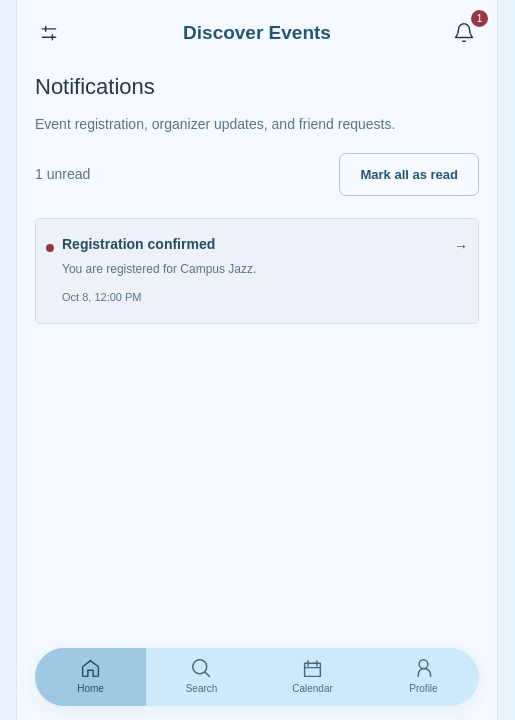
Scenario: shows unread notifications and refreshes after marking all as read
This screenshot has width=515, height=720.
Expected: the text "Registration confirmed" is shown, x1=62 y1=236 x2=215 y2=252
Expected: the text "1 unread" is shown, x1=35 y1=165 x2=90 y2=184
Click the button "Mark all as read" at (409, 175), box x1=339 y1=153 x2=479 y2=196
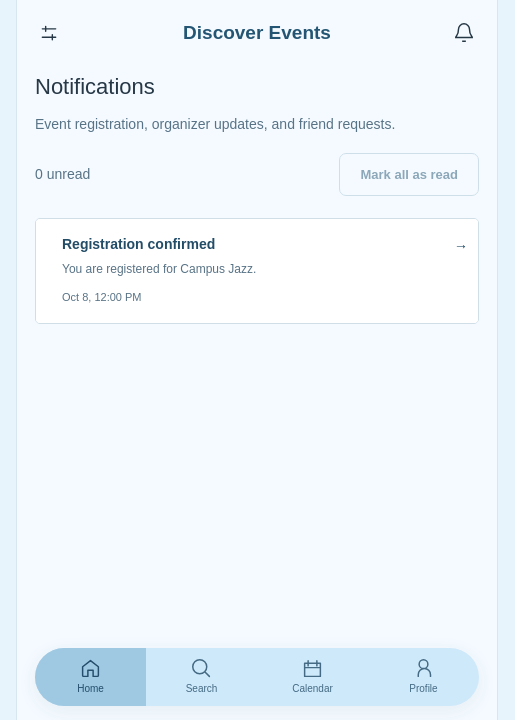
Now the text "0 unread" is shown, box x1=35 y1=165 x2=90 y2=184
Now the button "Mark all as read" is disabled, box x1=339 y1=153 x2=479 y2=196
